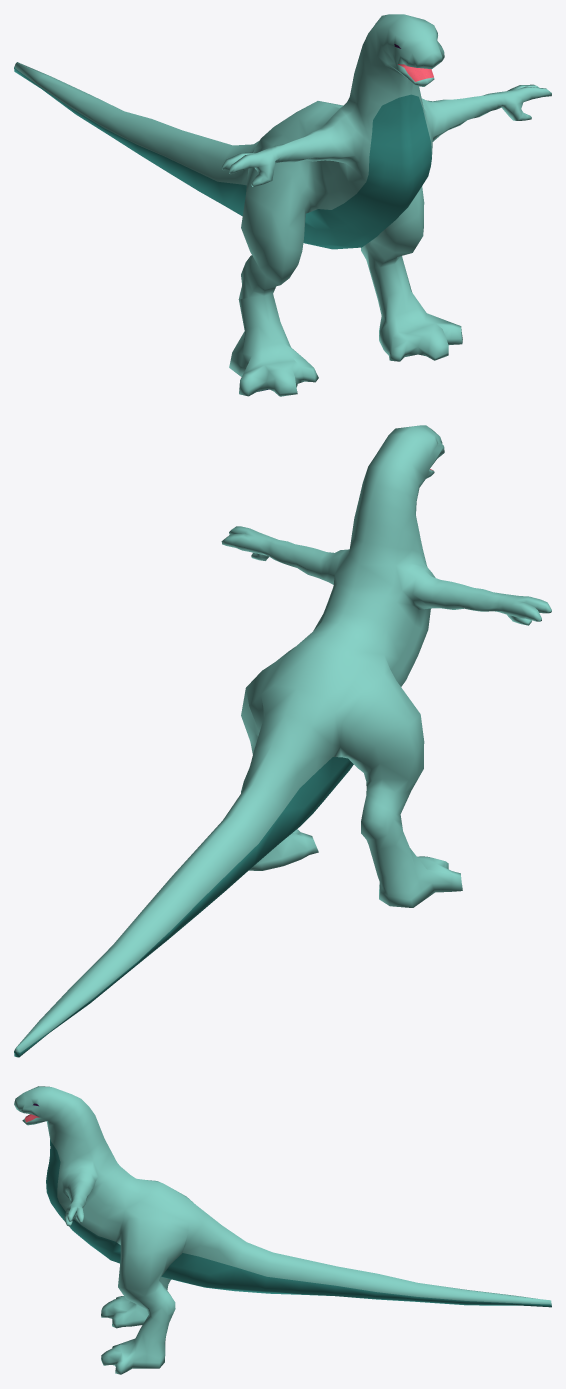
Rendered from model-kaiju.glb.
3 renders of one model, top to bottom at view 1: azimuth 30°, elevation 25°; view 2: azimuth 150°, elevation 25°; view 3: azimuth 270°, elevation 25°, orthographic. The views are drawn at different scales.
Visible parts, largest first — view 1: Dinosaur; view 2: Dinosaur; view 3: Dinosaur.
Boxes of the visible parts, x1,y1,x2,y2 form: Dinosaur: [14, 14, 551, 396]; Dinosaur: [14, 425, 551, 1057]; Dinosaur: [14, 1086, 551, 1374].
Bounding box in the file's own units: 1.81 × 2.1 × 4.06.
Materials: 1 (1 with a texture image).
